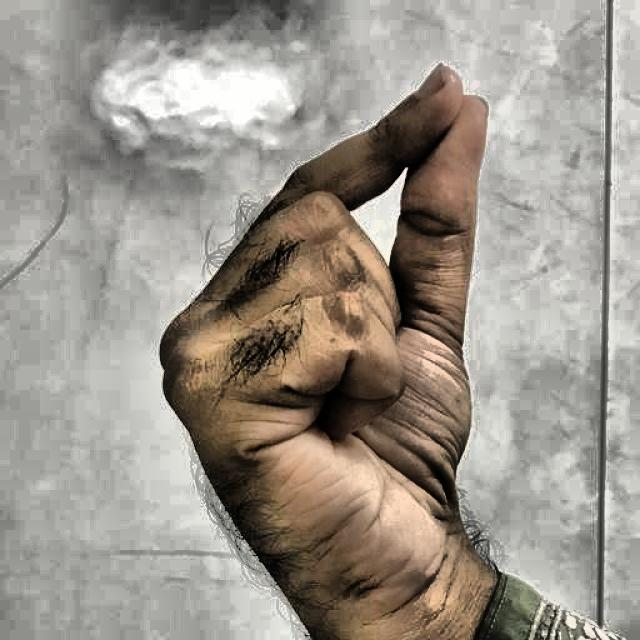Anusshar: (114, 24, 524, 620)
